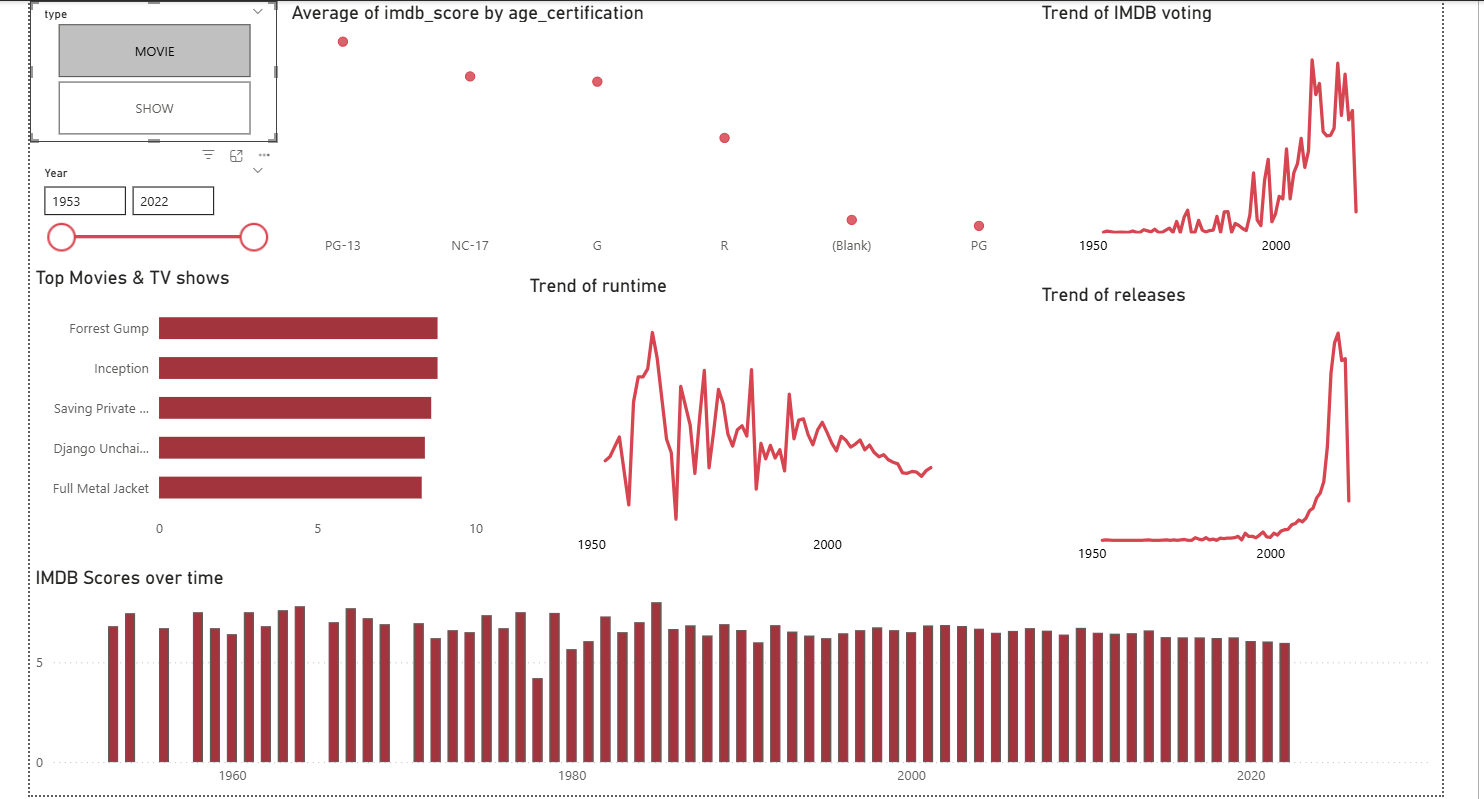

The dashboard page shown, as its layout file describes it:
{"tool":"powerbi","page":{"name":"Page 1","canvas":[1280,720],"ordinal":0},"visuals":[{"type":"clusteredBarChart","title":"Top Movies & TV shows","fields":{"Category":["Netflix TV Shows and Movies.title"],"Y":["Sum(Netflix TV Shows and Movies.imdb_score)"]},"box":[288,352,448,192],"z":0},{"type":"slicer","fields":{"Values":["Netflix TV Shows and Movies.type"]},"box":[0,0,224,128],"z":1},{"type":"slicer","fields":{"Values":["Netflix TV Shows and Movies.release_year"]},"box":[0,144,224,128],"z":2},{"type":"lineChart","title":"Trend of releases","fields":{"Category":["Netflix TV Shows and Movies.release_year"],"Y":["CountNonNull(Netflix TV Shows and Movies.title)"]},"box":[864,0,416,208],"z":3},{"type":"clusteredColumnChart","title":"IMDB Scores over time","fields":{"Category":["Netflix TV Shows and Movies.release_year"],"Y":["Avg(Netflix TV Shows and Movies.imdb_score)"]},"box":[0,512,1280,208],"z":4},{"type":"lineChart","title":"Trend of IMDB voting","fields":{"Category":["Netflix TV Shows and Movies.release_year"],"Y":["Sum(Netflix TV Shows and Movies.imdb_votes)"]},"box":[704,128,576,208],"z":5},{"type":"lineChart","title":"Trend of runtime","fields":{"Category":["Netflix TV Shows and Movies.release_year"],"Y":["Avg(Netflix TV Shows and Movies.runtime)"]},"box":[672,336,608,160],"z":7},{"type":"scatterChart","fields":{"Y":["Avg(Netflix TV Shows and Movies.imdb_score)"],"X":["Netflix TV Shows and Movies.age_certification"]},"box":[0,336,672,160],"z":8}]}

Visuals, with their boxes on the page's 1280x720 design canvas (x1, y1, x2, y2). These are canvas units, not pixel positions in the 1484x799 screenshot, which may show the page scaled, cropped or inside an application window:
"Top Movies & TV shows" clusteredBarChart: BBox(288, 352, 736, 544)
slicer - Netflix TV Shows and Movies.type: BBox(0, 0, 224, 128)
slicer - Netflix TV Shows and Movies.release_year: BBox(0, 144, 224, 272)
"Trend of releases" lineChart: BBox(864, 0, 1280, 208)
"IMDB Scores over time" clusteredColumnChart: BBox(0, 512, 1280, 720)
"Trend of IMDB voting" lineChart: BBox(704, 128, 1280, 336)
"Trend of runtime" lineChart: BBox(672, 336, 1280, 496)
scatterChart - Avg(Netflix TV Shows and Movies.imdb_score) x Netflix TV Shows and Movies.age_certification: BBox(0, 336, 672, 496)
